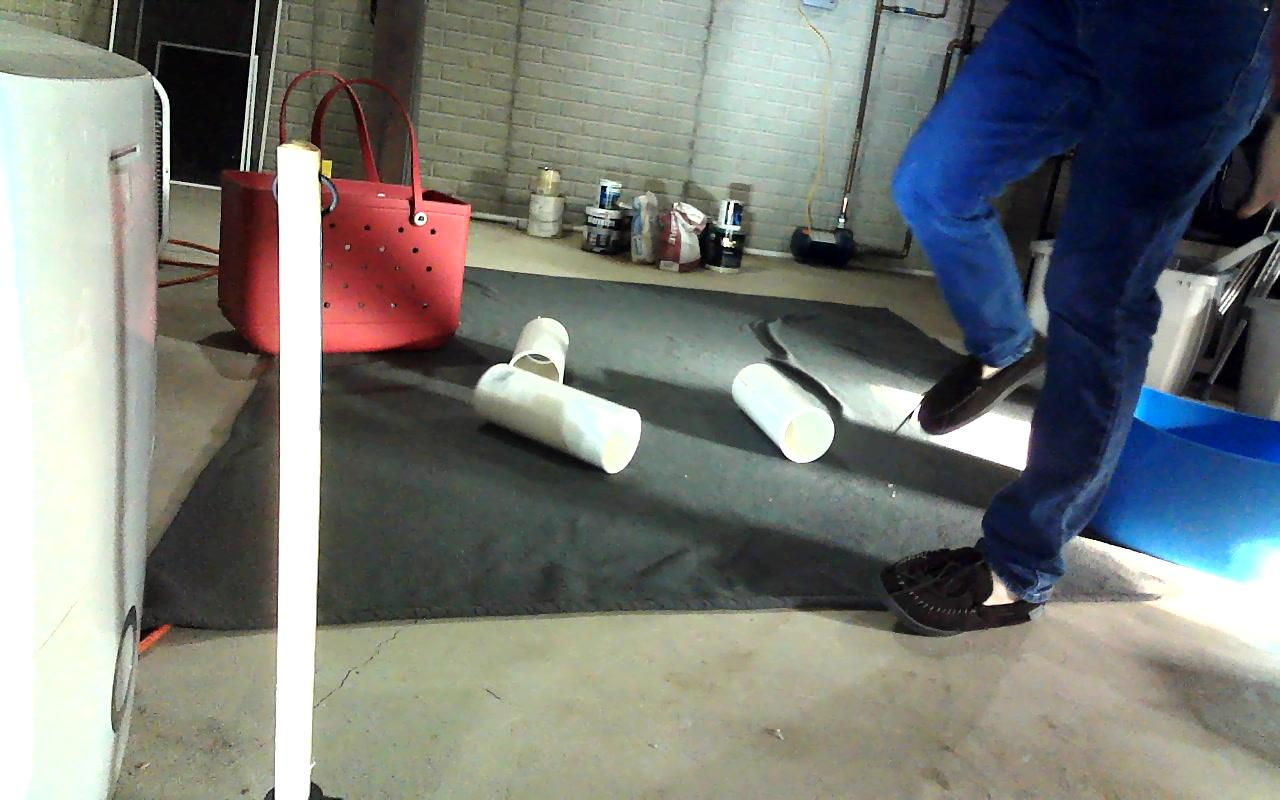coral: (475, 365, 641, 474), (731, 361, 834, 462), (509, 319, 567, 399)
